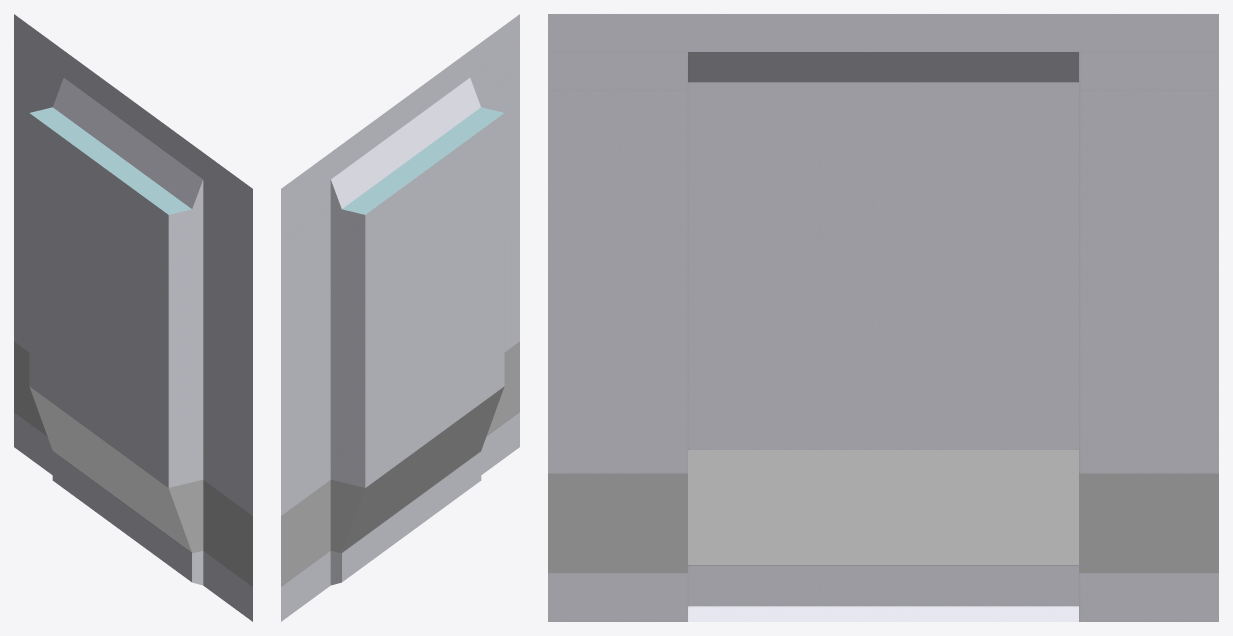
File: WallSimple3.fbx
3 renders of one model, left to right at view 1: azimuth 30°, elevation 25°; view 2: azimuth 150°, elevation 25°; view 3: azimuth 270°, elevation 25°, orthographic. The views are drawn at different scales.
Parts seen in each view (by area): view 1: Wall_Simple_01; view 2: Wall_Simple_01; view 3: Wall_Simple_01.
Boxes of the visible parts, box(x1,y1,x2,y2) form: Wall_Simple_01: box(14, 14, 252, 621); Wall_Simple_01: box(281, 14, 519, 621); Wall_Simple_01: box(548, 14, 1218, 621).
Bounding box in the file's own units: 25 × 300 × 300.
